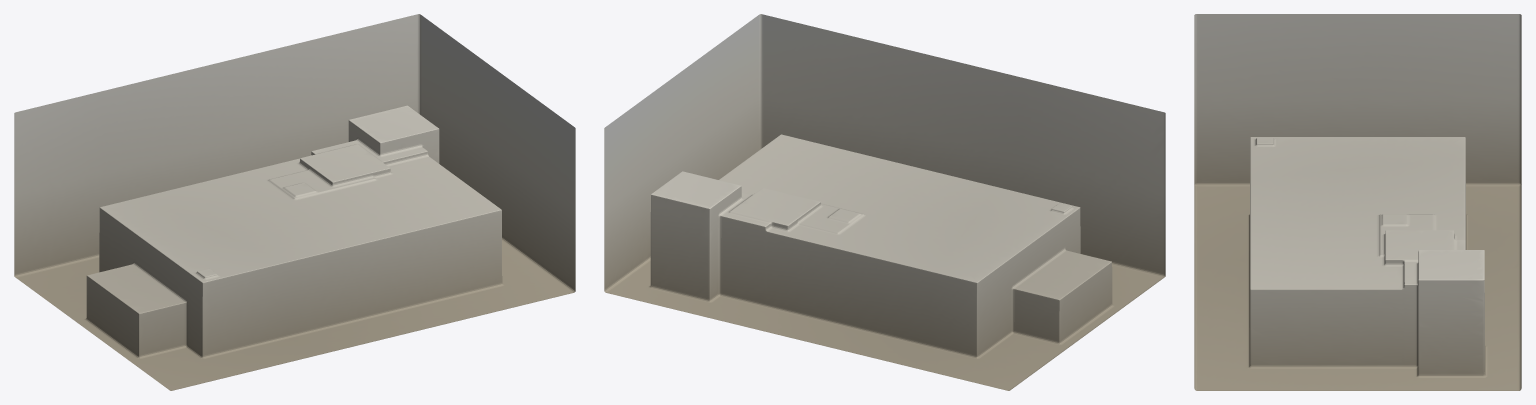
The model's file is pennywort_mill_col.glb.
3 renders of one model, left to right at view 1: azimuth 30°, elevation 25°; view 2: azimuth 150°, elevation 25°; view 3: azimuth 270°, elevation 25°, orthographic. The views are drawn at different scales.
Parts seen in each view (by area): view 1: geometry_0; view 2: geometry_0; view 3: geometry_0.
Part boxes in pixels (<box>): geometry_0: <box>14,14,575,390</box>; geometry_0: <box>604,14,1165,390</box>; geometry_0: <box>1194,14,1521,390</box>.
Size of the model in its own units: 131 by 50.51 by 87.37.
